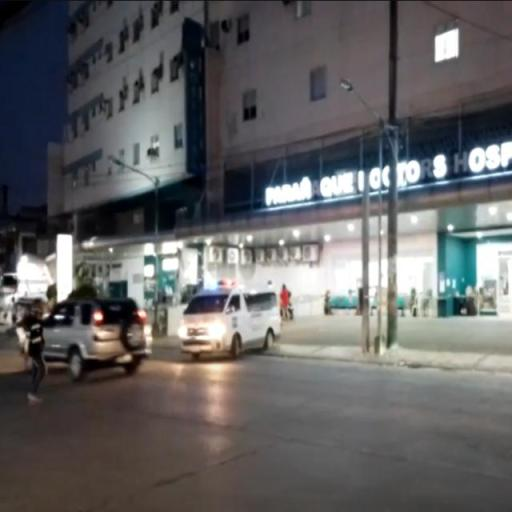Police car: (178, 280, 281, 364)
